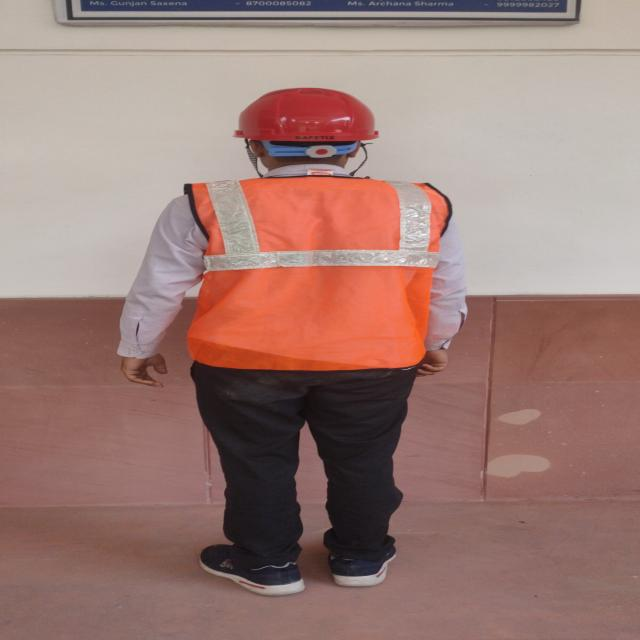safe: (121, 89, 465, 594)
